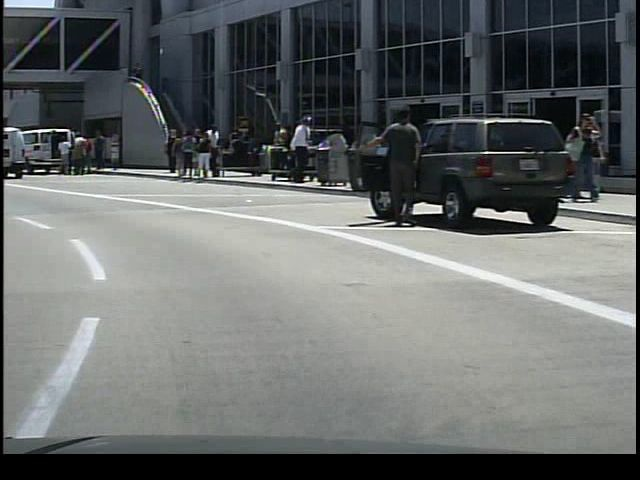person: (367, 100, 421, 233), (561, 107, 596, 203), (278, 112, 310, 192), (200, 122, 225, 181), (158, 125, 181, 176), (190, 129, 212, 180), (87, 128, 109, 175), (69, 130, 87, 179), (54, 135, 73, 177)
